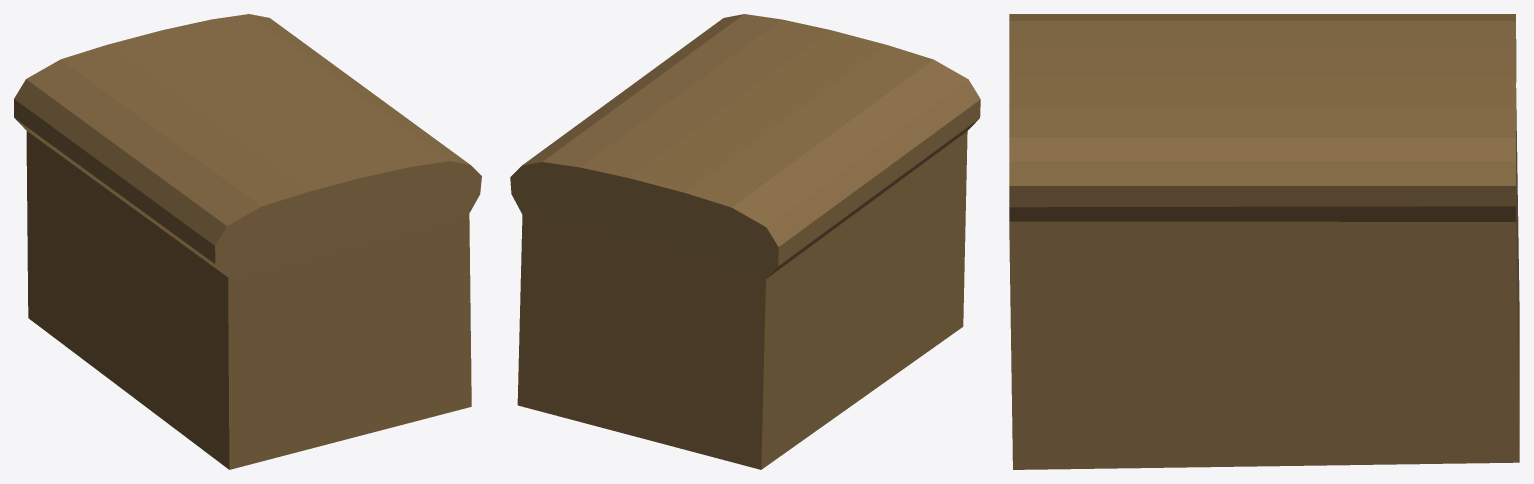
Rendered from Kogan_Julieta_48243253.fbx.
3 views of the same model, side by side, from view 1: azimuth 30°, elevation 25°; view 2: azimuth 150°, elevation 25°; view 3: azimuth 270°, elevation 25° (orthographic). The views are drawn at different scales.
Visible parts, largest first — view 1: Pan; view 2: Pan; view 3: Pan.
Part boxes in pixels (left/top/right/bottom): Pan: left=14, top=14, right=481, bottom=469; Pan: left=510, top=14, right=980, bottom=469; Pan: left=1009, top=14, right=1519, bottom=469.
Bounding box in the file's own units: 153 × 143 × 201.
